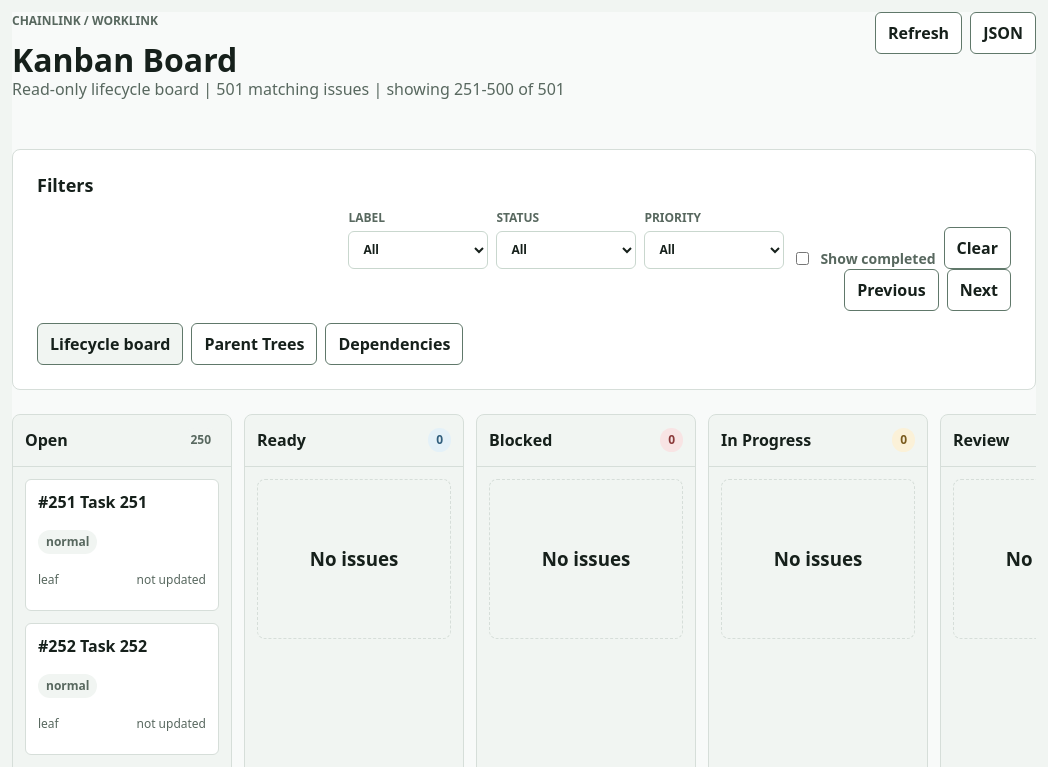
ChainlinkBoardRoute queries › queries the global Status filter and resets the page
This screenshot has width=1048, height=767.
Expected: the text "showing 251-500" is shown, [199,78,565,100]
Step 1. Select "done" in the dropdown labelled "Status" → point(566, 250), box [496,231,636,269]
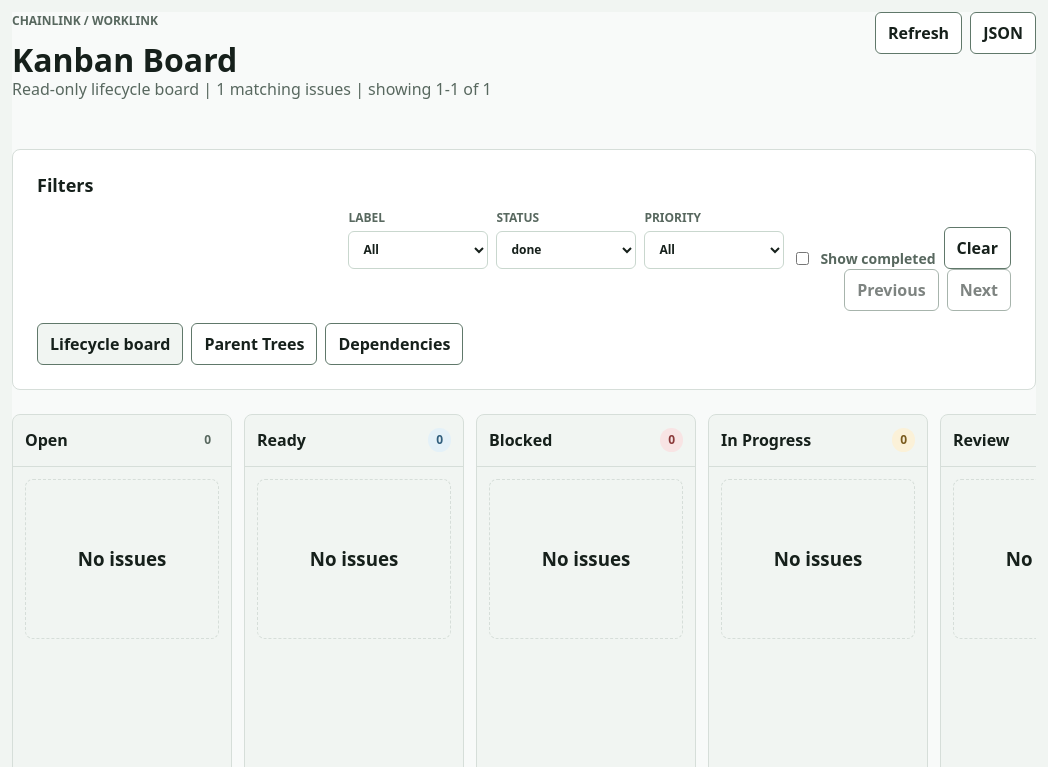
Now the text "1 matching issues | showing 1-1 of 1" is shown, box [199,78,492,100]
